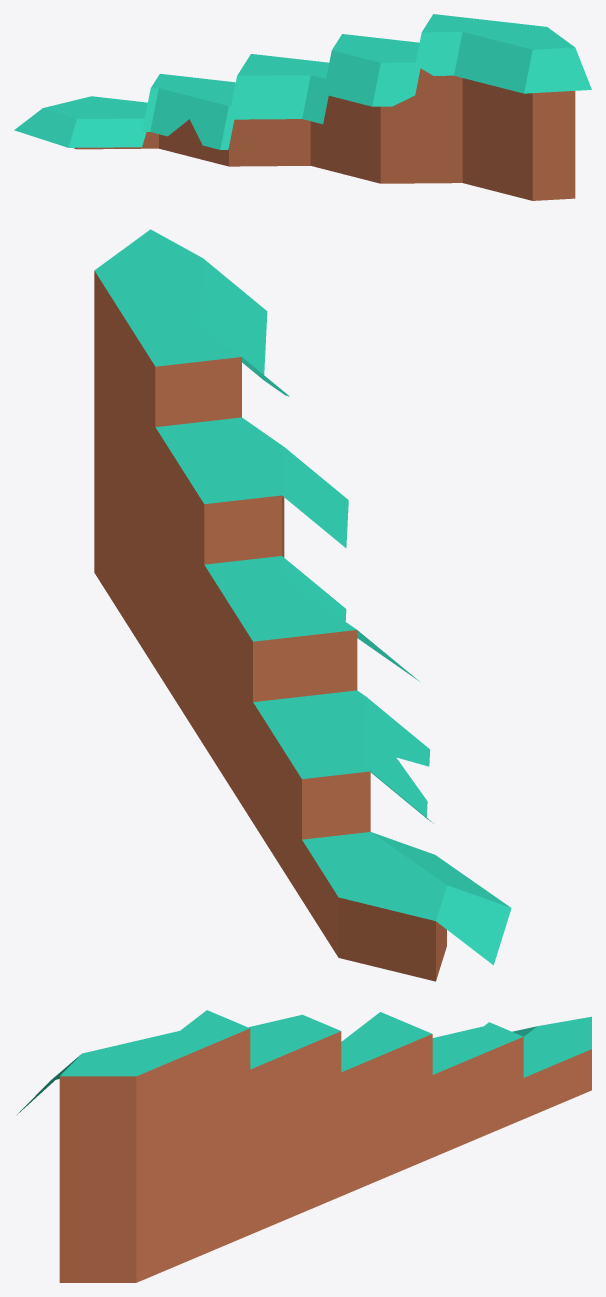
The model's file is cliff_stairBorderDiagonal_lower_right_rock.fbx.
The picture shows the model from 3 angles, top to bottom: view 1: azimuth 30°, elevation 25°; view 2: azimuth 150°, elevation 25°; view 3: azimuth 270°, elevation 25°; orthographic projection. The views are drawn at different scales.
Parts seen in each view (by area): view 1: cliff_topDiagonal_rock; view 2: cliff_topDiagonal_rock; view 3: cliff_topDiagonal_rock.
Part boxes in pixels (x1,y1,x2,y2): cliff_topDiagonal_rock: [14, 14, 591, 200]; cliff_topDiagonal_rock: [94, 229, 511, 981]; cliff_topDiagonal_rock: [16, 1010, 591, 1282].
Bounding box in the file's own units: 12.68 × 5 × 12.68.
